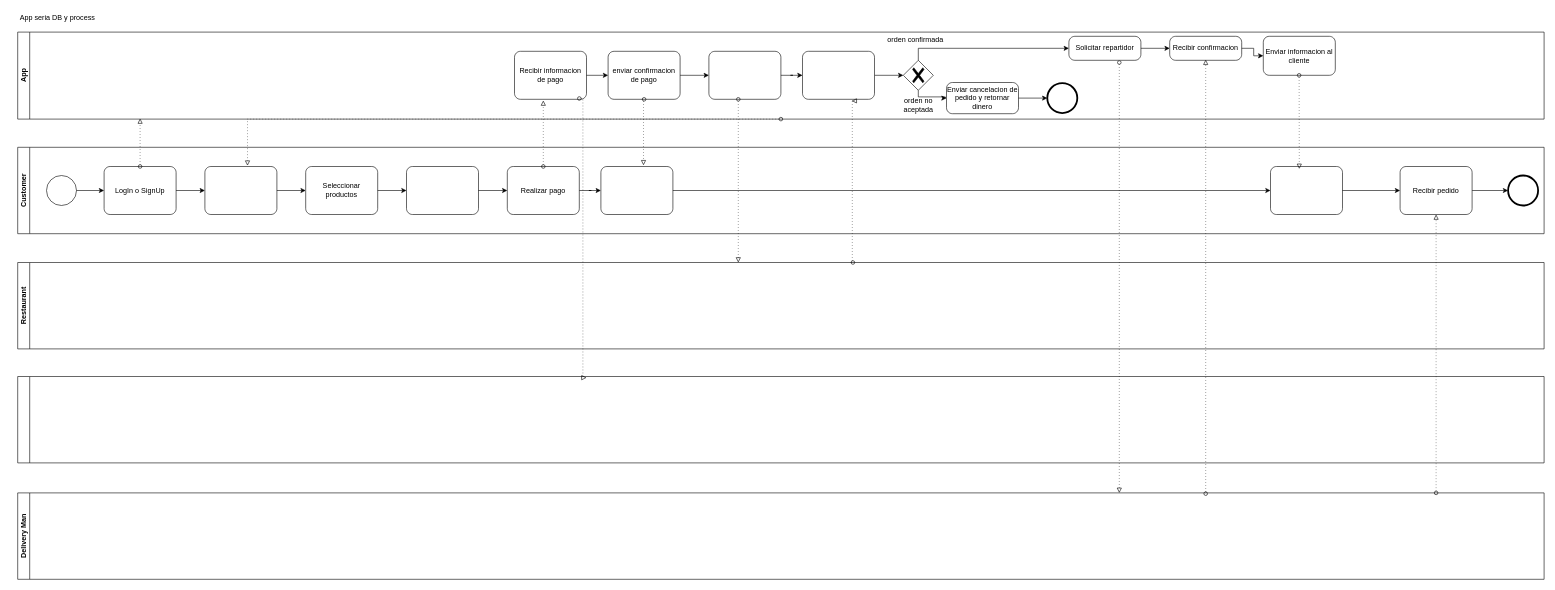
Image size: 1555x590. Some labels were removed from this diagram. Here are the shapes that lost their labels. From the top down, the centre of each, then its label:
At [744,75]: "Notificar restaurante".
At [838,75]: "Recibir respuesta".
At [240,190]: "Ver productos".
At [442,190]: "Confirmar seleccion".
At [636,190]: "Recibir confirmacion de pago".
At [1306,190]: "Recibir informacion".
At [780,419]: "Payment".
